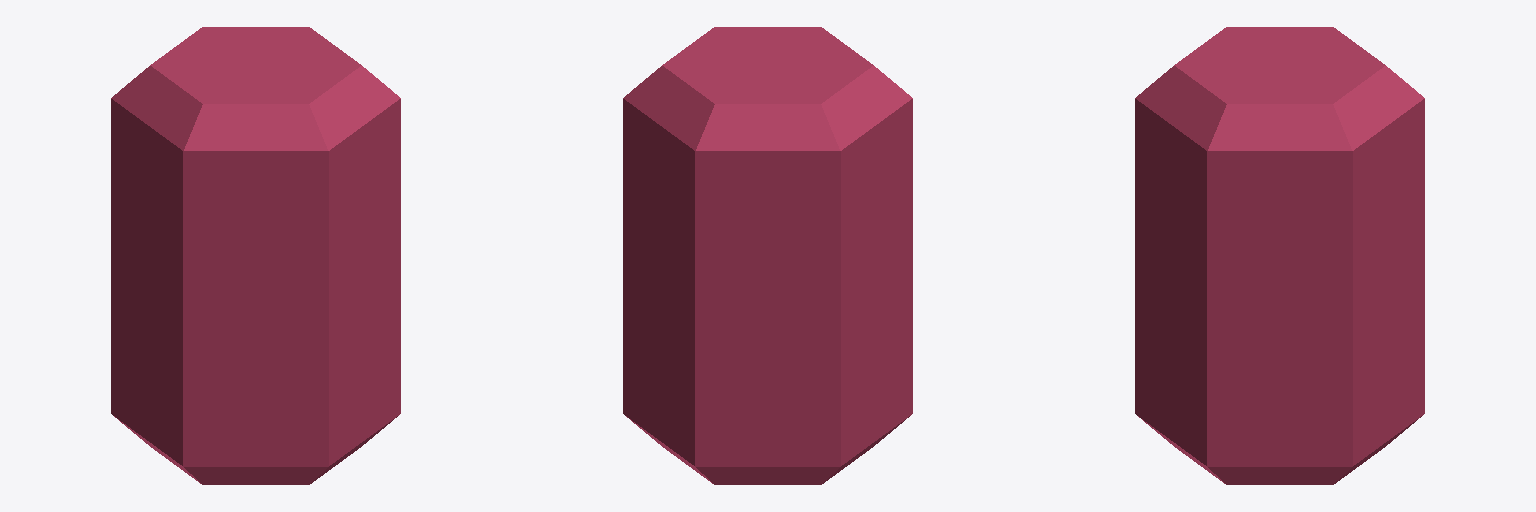
Rendered from spaceInterior_015.obj.
3 renders of one model, left to right at view 1: azimuth 30°, elevation 25°; view 2: azimuth 150°, elevation 25°; view 3: azimuth 270°, elevation 25°, orthographic.
Visible parts, largest first — view 1: Mesh1 Group1 Model; view 2: Mesh1 Group1 Model; view 3: Mesh1 Group1 Model.
Part boxes in pixels (x1,y1,x2,y2): Mesh1 Group1 Model: (111, 27, 400, 484); Mesh1 Group1 Model: (623, 27, 912, 484); Mesh1 Group1 Model: (1135, 27, 1424, 484).
Bounding box in the file's own units: 0.3464 × 0.58 × 0.4.